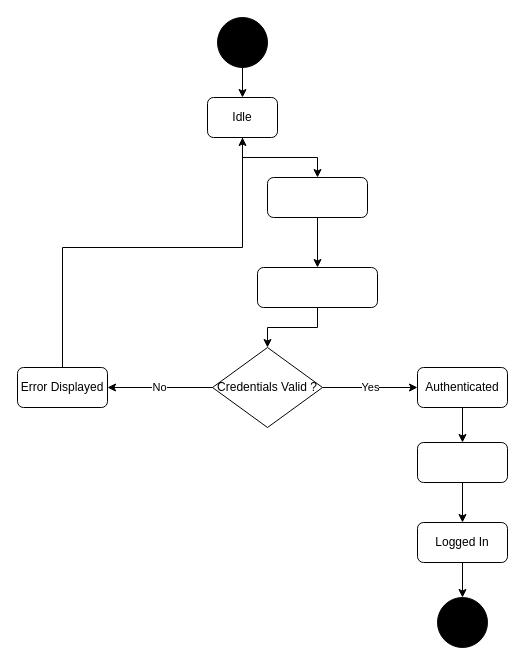
This 525x665 diagram has some shape labels left out. Here are the shapes that lost their labels. From the top down, the centre of each, then its label:
At point (317, 197): "User Enters Credentials".
At point (317, 287): "Validating Credentials".
At point (462, 462): "Redirecting".
